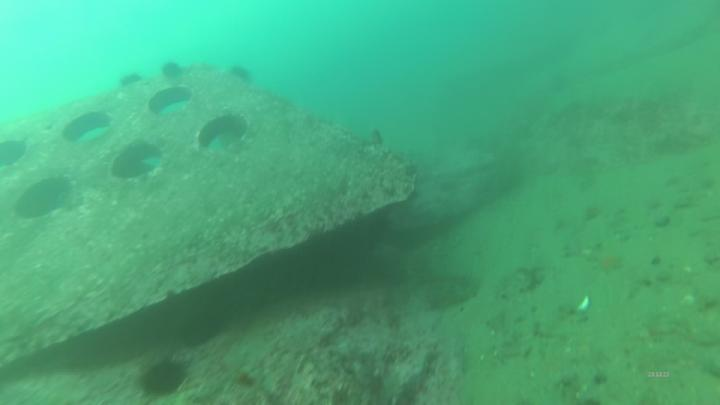echinus: (119, 70, 143, 90), (162, 63, 186, 83), (229, 65, 252, 85)
starfish: (142, 358, 187, 400), (596, 255, 625, 277)
